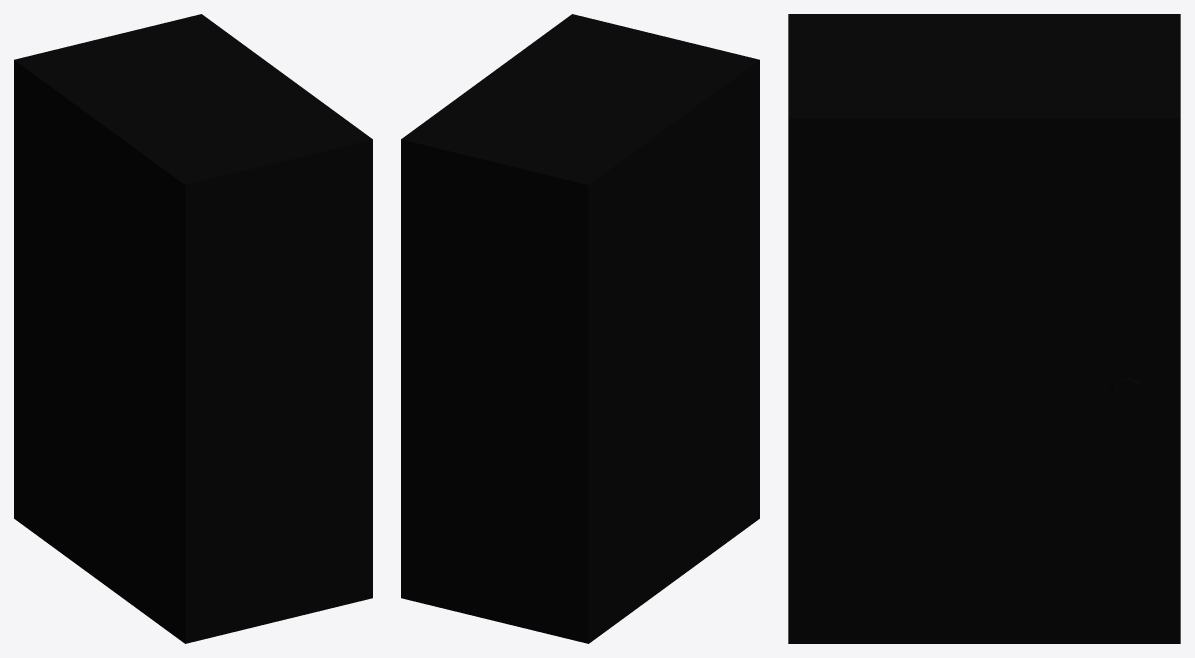
File: PowerBox1(final).fbx
The picture shows the model from 3 angles, left to right: view 1: azimuth 30°, elevation 25°; view 2: azimuth 150°, elevation 25°; view 3: azimuth 270°, elevation 25°; orthographic projection. The views are drawn at different scales.
Visible parts, largest first — view 1: Cube, Cube.007; view 2: Cube, Cube.007; view 3: Cube.007, Cube.
Part boxes in pixels (box(x1,y1,x2,y2)): Cube: box(14, 18, 357, 643); Cube.007: box(186, 14, 372, 601); Cube: box(416, 18, 759, 643); Cube.007: box(401, 14, 587, 601); Cube.007: box(788, 110, 1180, 643); Cube: box(788, 14, 1180, 110).
Bounding box in the file's own units: 344 × 223 × 509.
7 materials, 4 textured.
